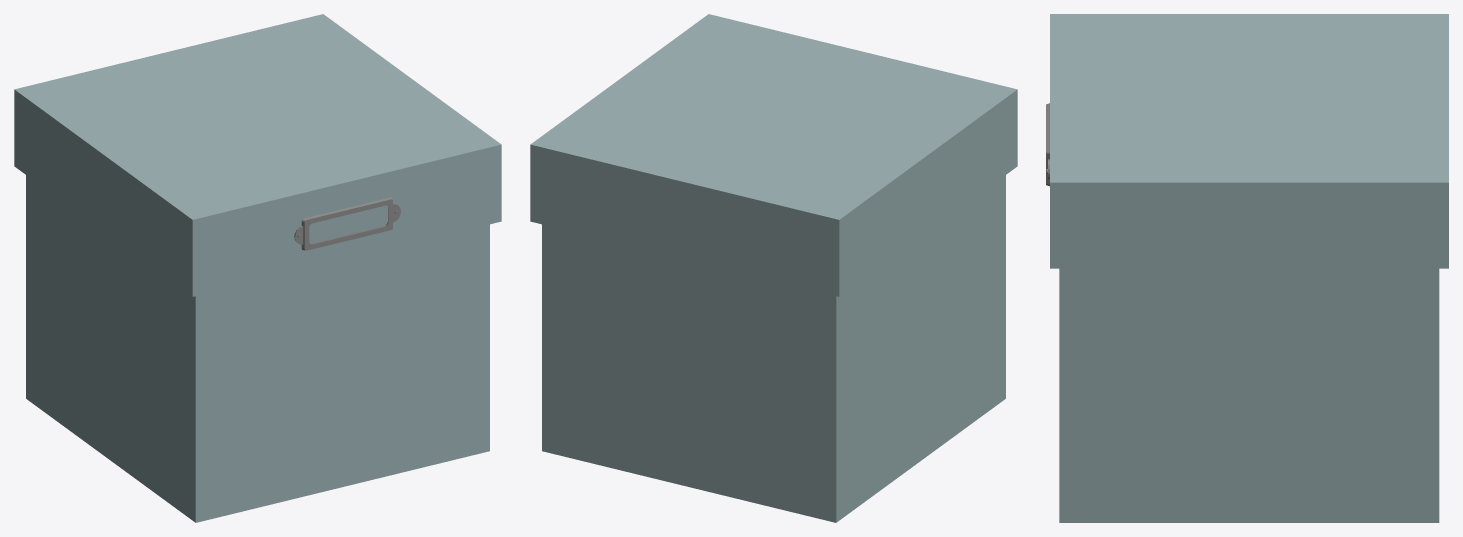
The picture shows the model from 3 angles, left to right: view 1: azimuth 30°, elevation 25°; view 2: azimuth 150°, elevation 25°; view 3: azimuth 270°, elevation 25°; orthographic projection. The views are drawn at different scales.
Parts seen in each view (by area): view 1: box, label; view 2: box; view 3: box.
Part boxes in pixels (<box>): box: <box>14,14,501,522</box>; label: <box>294,197,400,250</box>; box: <box>530,14,1017,522</box>; box: <box>1050,14,1448,522</box>.
Bounding box in the file's own units: 0.21 × 0.2 × 0.212.
